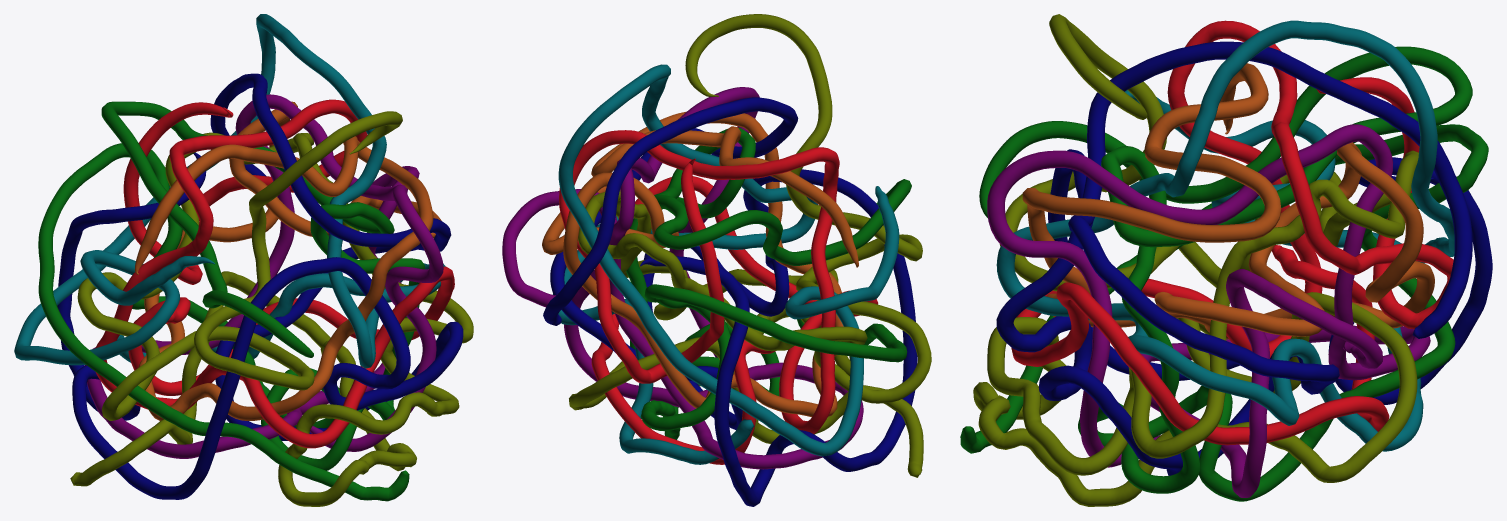
Rendered from NoodleSphere.fbx.
3 renders of one model, left to right at view 1: azimuth 30°, elevation 25°; view 2: azimuth 150°, elevation 25°; view 3: azimuth 270°, elevation 25°, orthographic. The views are drawn at different scales.
Parts seen in each view (by area): view 1: brush_Toon_g0_b0; view 2: brush_Toon_g0_b0; view 3: brush_Toon_g0_b0.
Boxes of the visible parts, x1,y1,x2,y2 form: brush_Toon_g0_b0: [14, 14, 473, 506]; brush_Toon_g0_b0: [502, 14, 931, 506]; brush_Toon_g0_b0: [960, 14, 1492, 506].
Size of the model in its own units: 1.61 by 1.59 by 1.6.
